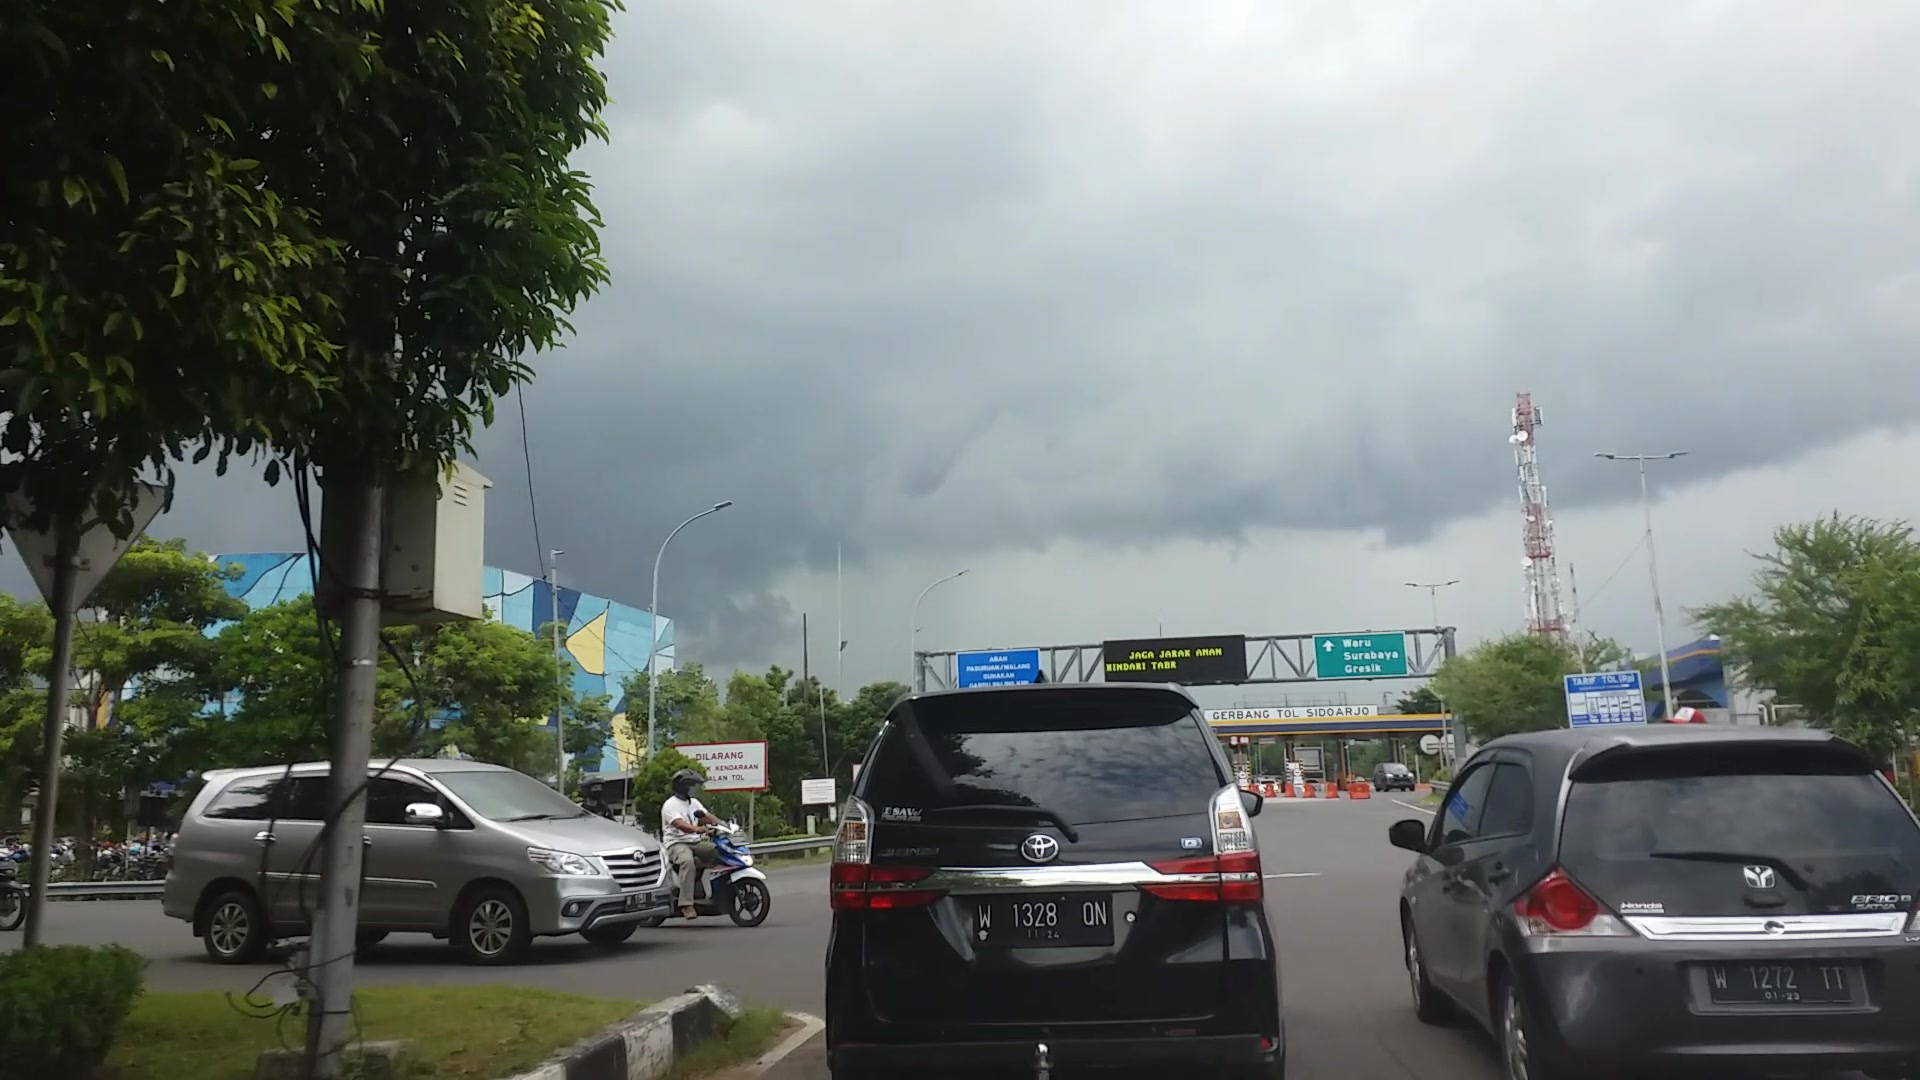plate_positive: (973, 894, 1114, 947), (1706, 961, 1850, 1004)
